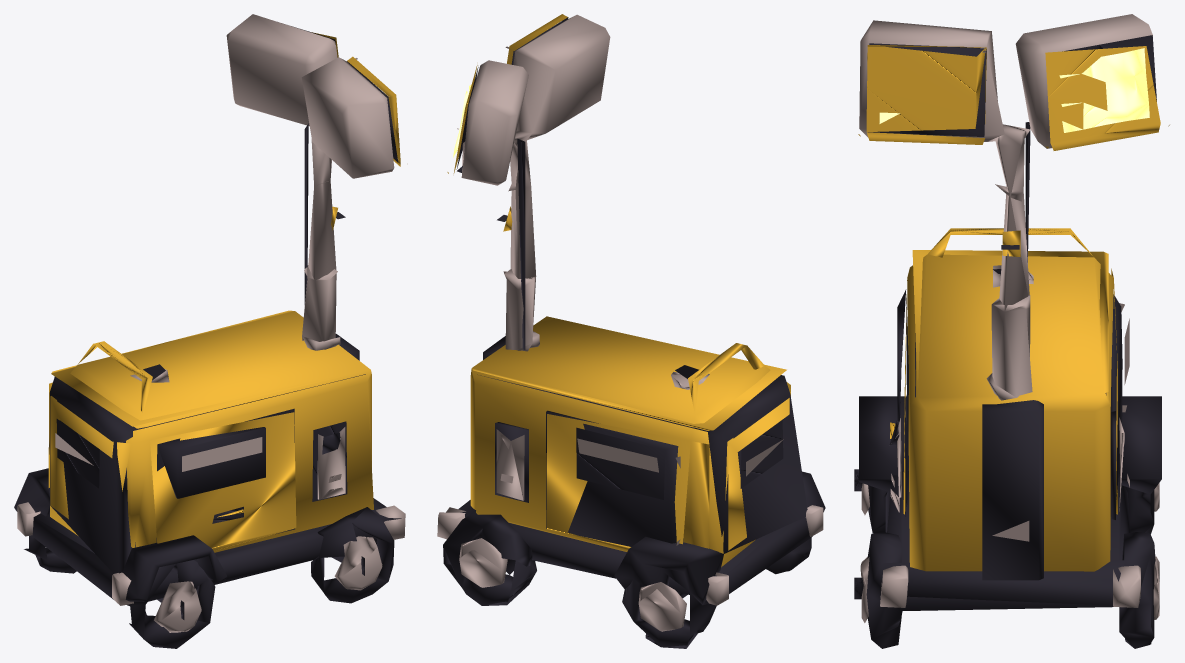
3 renders of one model, left to right at view 1: azimuth 30°, elevation 25°; view 2: azimuth 150°, elevation 25°; view 3: azimuth 270°, elevation 25°, orthographic. The views are drawn at different scales.
Size of the model in its own units: 2.55 by 4.13 by 1.9.
